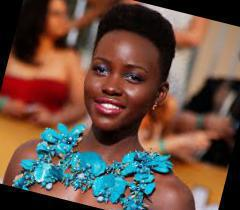Sober: (87, 41, 152, 126)
